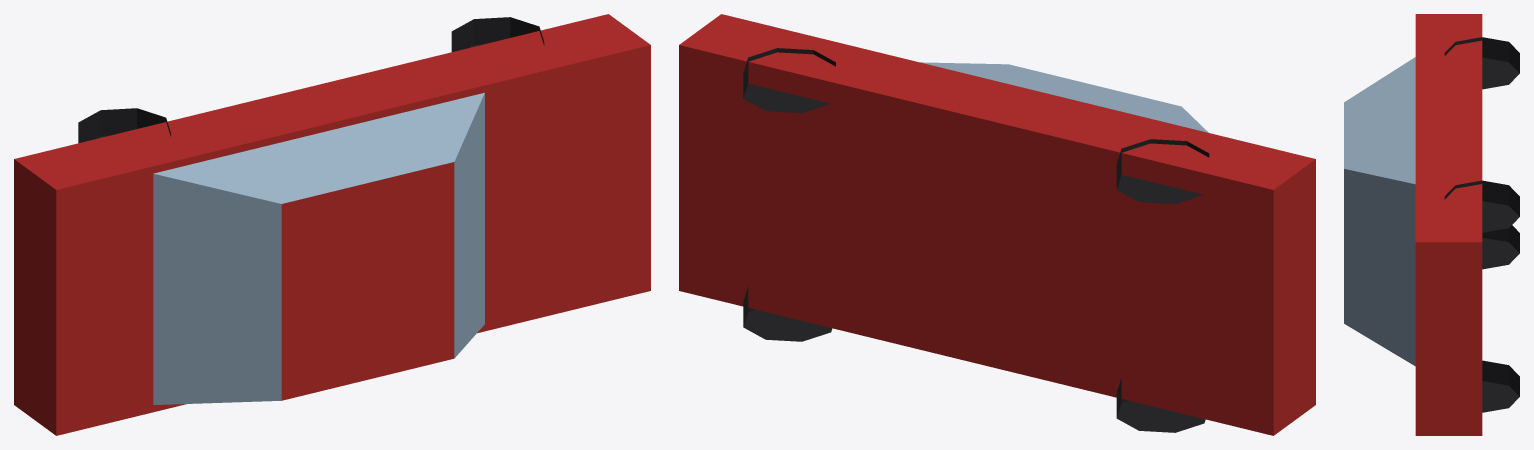
The model's file is car.obj.
The picture shows the model from 3 angles, left to right: view 1: azimuth 30°, elevation 25°; view 2: azimuth 150°, elevation 25°; view 3: azimuth 270°, elevation 25°; orthographic projection. The views are drawn at different scales.
Bounding box in the file's own units: 4.3 × 1.76 × 1.4.
